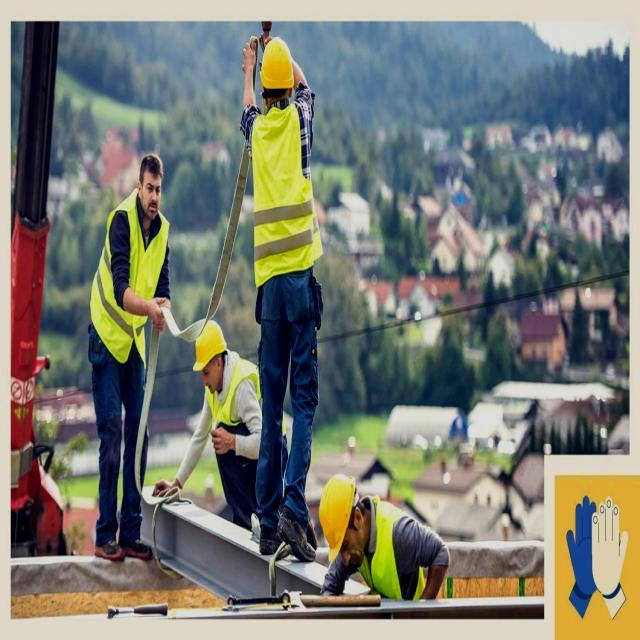face_nomask: (142, 172, 164, 218), (200, 357, 220, 398)
hand_noglove: (562, 491, 639, 615), (149, 473, 185, 508), (146, 291, 170, 341), (212, 426, 236, 462)
head_helmet: (318, 470, 356, 564), (259, 38, 296, 91), (193, 322, 229, 368)
person: (242, 31, 322, 564), (90, 155, 172, 557), (319, 476, 450, 611), (194, 319, 264, 533)
shoes: (278, 501, 316, 564), (91, 524, 125, 565), (115, 524, 152, 561), (255, 515, 286, 558)
vest: (88, 194, 170, 373), (250, 107, 324, 280)
